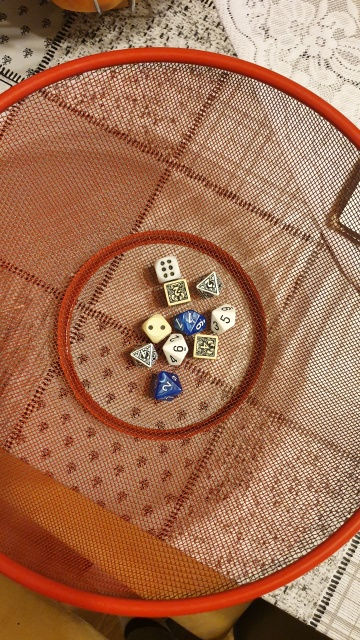d10-1: (171, 310, 208, 333)
d10-2: (147, 371, 184, 400)
d10-5: (205, 304, 238, 337)
d10-6: (161, 331, 191, 368)
d6-2: (139, 313, 170, 342)
d6-6: (152, 255, 179, 282)
d6p-2: (163, 279, 192, 307)
d6p-4: (193, 334, 221, 363)
d8p-2: (195, 269, 222, 300)
d8p-4: (129, 340, 157, 370)
